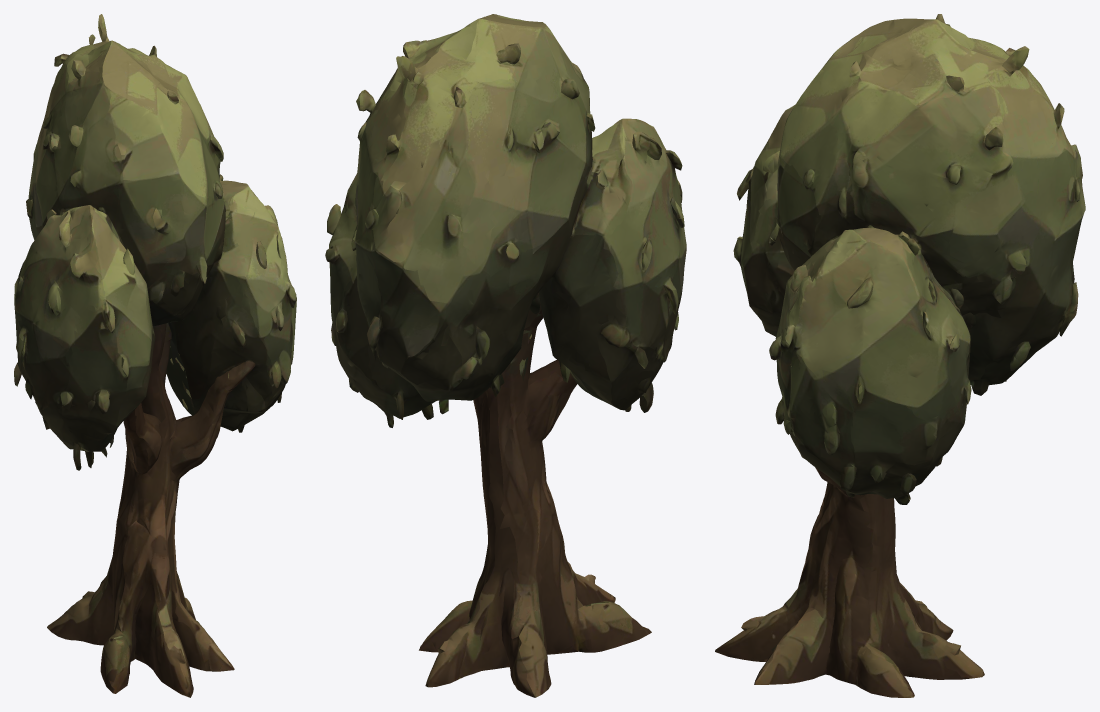
The model's file is tree_common_a_standing.glb.
3 renders of one model, left to right at view 1: azimuth 30°, elevation 25°; view 2: azimuth 150°, elevation 25°; view 3: azimuth 270°, elevation 25°, orthographic. The views are drawn at different scales.
Parts seen in each view (by area): view 1: tree_common_a_standing; view 2: tree_common_a_standing; view 3: tree_common_a_standing.
Part boxes in pixels (box(x1,y1,x2,y2)): tree_common_a_standing: box(14, 14, 296, 697); tree_common_a_standing: box(325, 14, 686, 697); tree_common_a_standing: box(715, 14, 1085, 697).
Bounding box in the file's own units: 3.04 × 6 × 3.13.
1 material, 1 textured.
